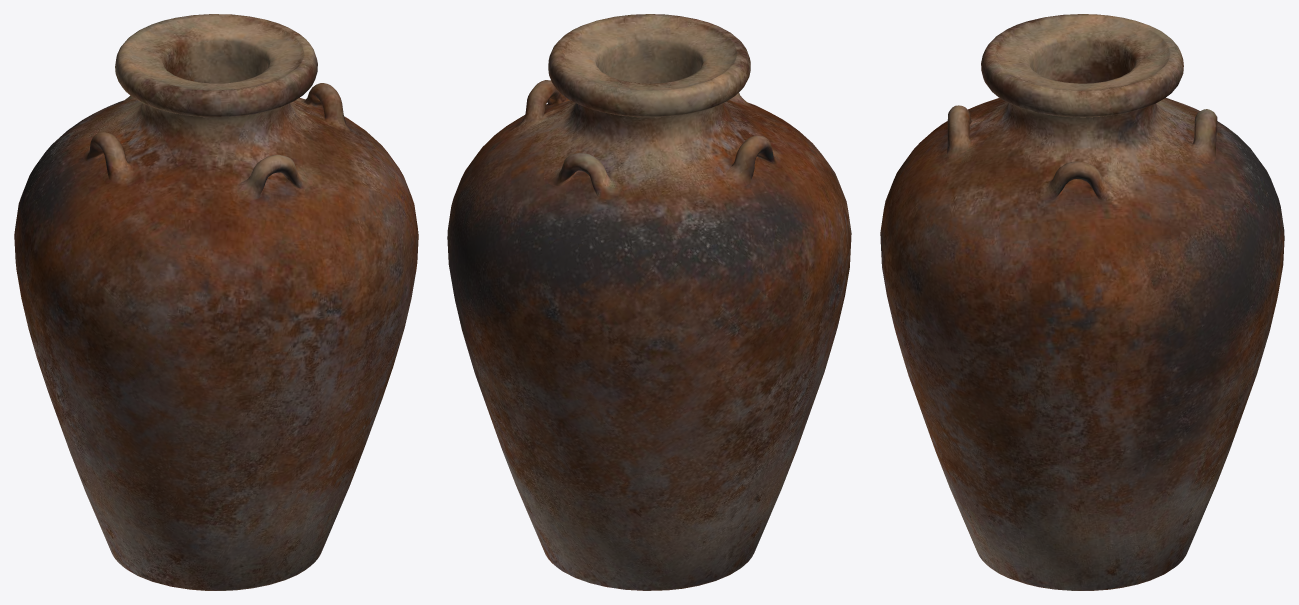
The model's file is 老罐子1.fbx.
3 renders of one model, left to right at view 1: azimuth 30°, elevation 25°; view 2: azimuth 150°, elevation 25°; view 3: azimuth 270°, elevation 25°, orthographic.
Visible parts, largest first — view 1: 3d66-Editable_Poly-32443966-013; view 2: 3d66-Editable_Poly-32443966-013; view 3: 3d66-Editable_Poly-32443966-013.
Part boxes in pixels (bbox=[...]): 3d66-Editable_Poly-32443966-013: bbox=[14, 14, 418, 590]; 3d66-Editable_Poly-32443966-013: bbox=[447, 14, 851, 590]; 3d66-Editable_Poly-32443966-013: bbox=[880, 14, 1284, 590].
Size of the model in its own units: 188 by 254 by 188.
1 material, 1 textured.
